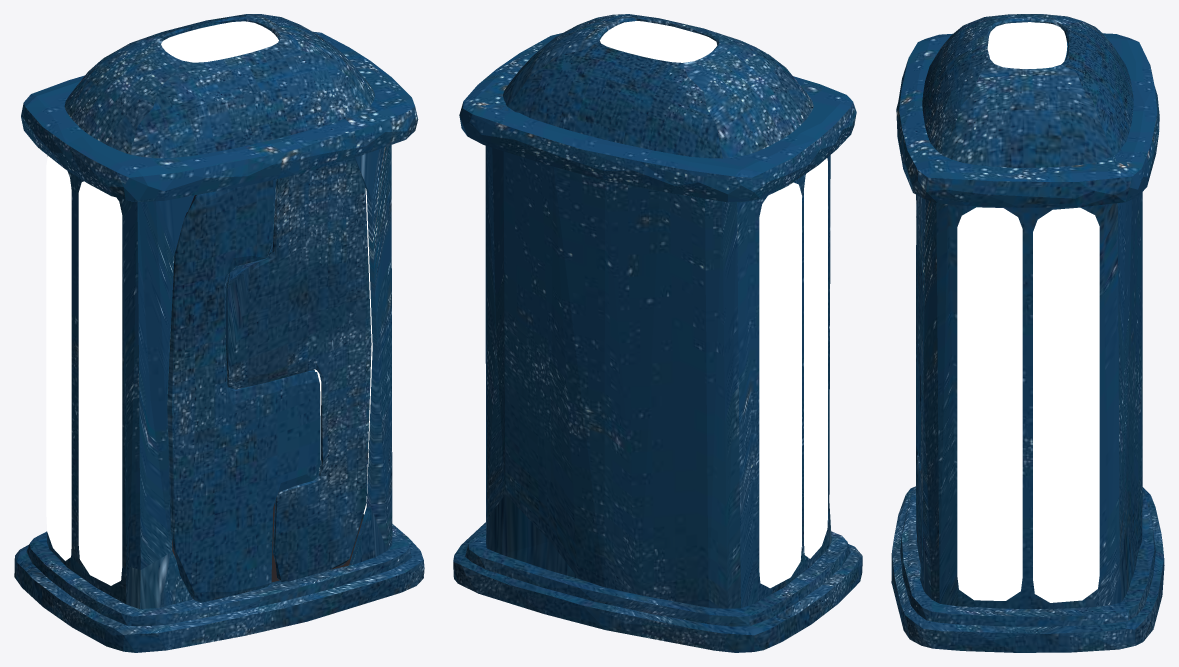
File: Nav_007.fbx
3 renders of one model, left to right at view 1: azimuth 30°, elevation 25°; view 2: azimuth 150°, elevation 25°; view 3: azimuth 270°, elevation 25°, orthographic.
Visible parts, largest first — view 1: Nav_Corpo, Nav_portaS, Nav_portaD; view 2: Nav_Corpo; view 3: Nav_Corpo, Nav_portaD, Nav_portaS.
Boxes of the visible parts, <box> form: Nav_Corpo: <box>14,14,424,652</box>; Nav_portaS: <box>167,180,320,602</box>; Nav_portaD: <box>225,157,371,582</box>; Nav_Corpo: <box>453,14,862,652</box>; Nav_Corpo: <box>891,14,1164,652</box>; Nav_portaD: <box>916,195,923,565</box>; Nav_portaS: <box>916,195,921,534</box>.
Bounding box in the file's own units: 144 × 224 × 104.
